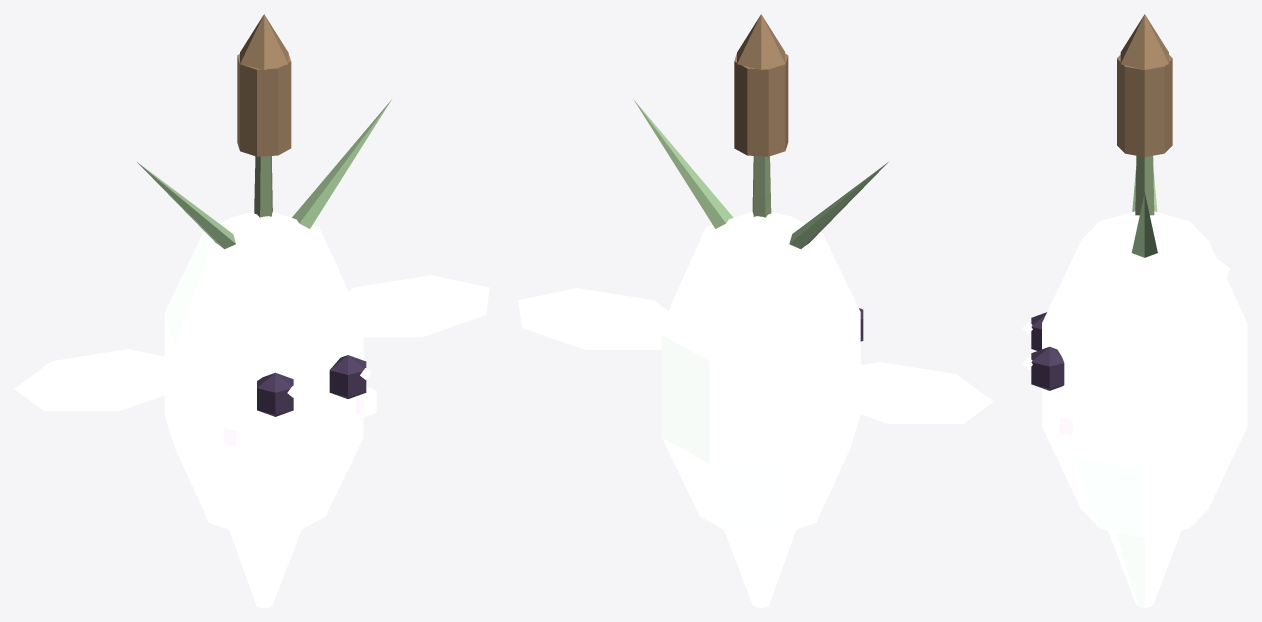
The model's file is spirit_reed.glb.
3 views of the same model, side by side, from view 1: azimuth 30°, elevation 25°; view 2: azimuth 150°, elevation 25°; view 3: azimuth 270°, elevation 25° (orthographic).
Parts seen in each view (by area): view 1: body, fin_l, sway, fin_r, eyes, sway2_r, sway2_l; view 2: body, fin_l, sway, fin_r, sway2_r, sway2_l; view 3: body, fin_r, sway, eyes, sway2_r.
Part boxes in pixels (bbox=[...]): body: bbox=[164, 211, 376, 607]; fin_l: bbox=[14, 349, 184, 410]; sway: bbox=[237, 14, 291, 217]; fin_r: bbox=[349, 275, 489, 337]; eyes: bbox=[257, 355, 371, 416]; sway2_r: bbox=[292, 99, 391, 228]; sway2_l: bbox=[137, 162, 235, 249]; body: bbox=[661, 211, 862, 607]; fin_l: bbox=[822, 362, 993, 423]; sway: bbox=[734, 14, 788, 217]; fin_r: bbox=[518, 288, 668, 349]; sway2_r: bbox=[633, 99, 733, 228]; sway2_l: bbox=[789, 162, 888, 248]; body: bbox=[1042, 211, 1247, 607]; fin_r: bbox=[1094, 388, 1229, 465]; sway: bbox=[1117, 14, 1172, 215]; eyes: bbox=[1022, 312, 1064, 390]; sway2_r: bbox=[1131, 192, 1157, 257].
Size of the model in its own units: 3.05 by 3.73 by 1.29.
